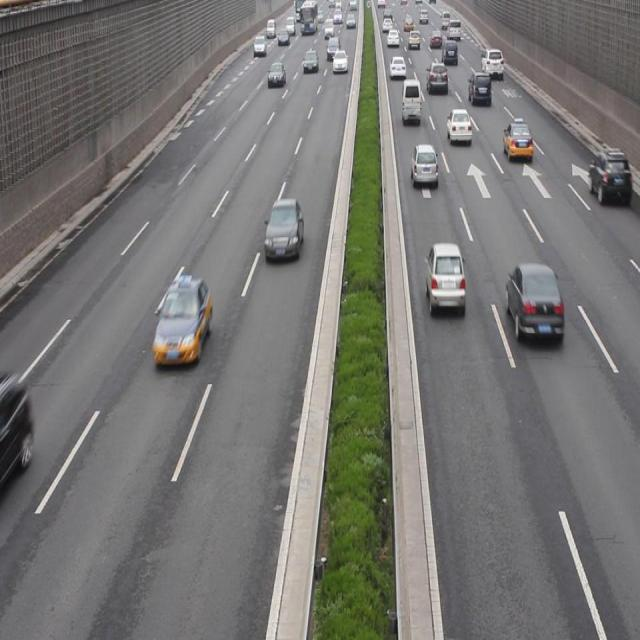car: (152, 278, 211, 368), (504, 264, 563, 348), (424, 243, 464, 316), (262, 197, 302, 264), (586, 151, 629, 208), (410, 144, 437, 188), (501, 121, 532, 158), (446, 108, 471, 146)
